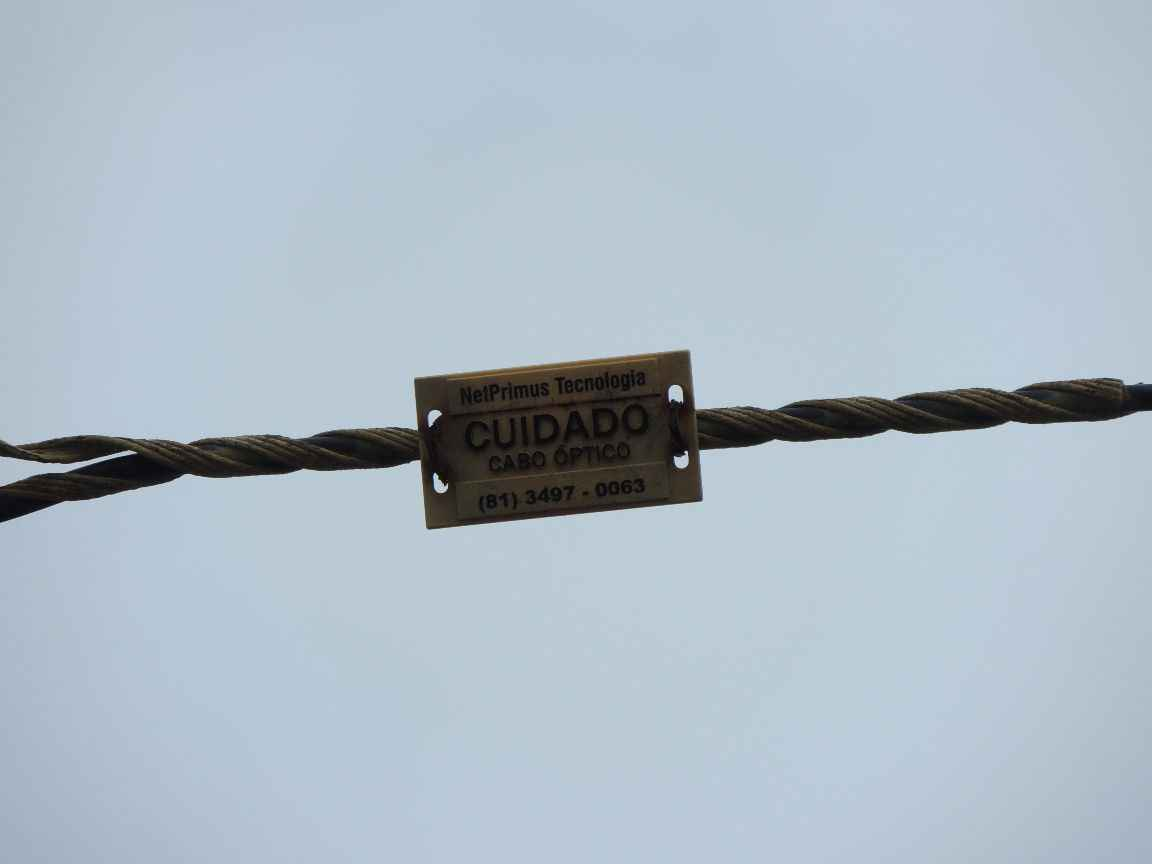fibra_optica: (379, 319, 746, 557)
